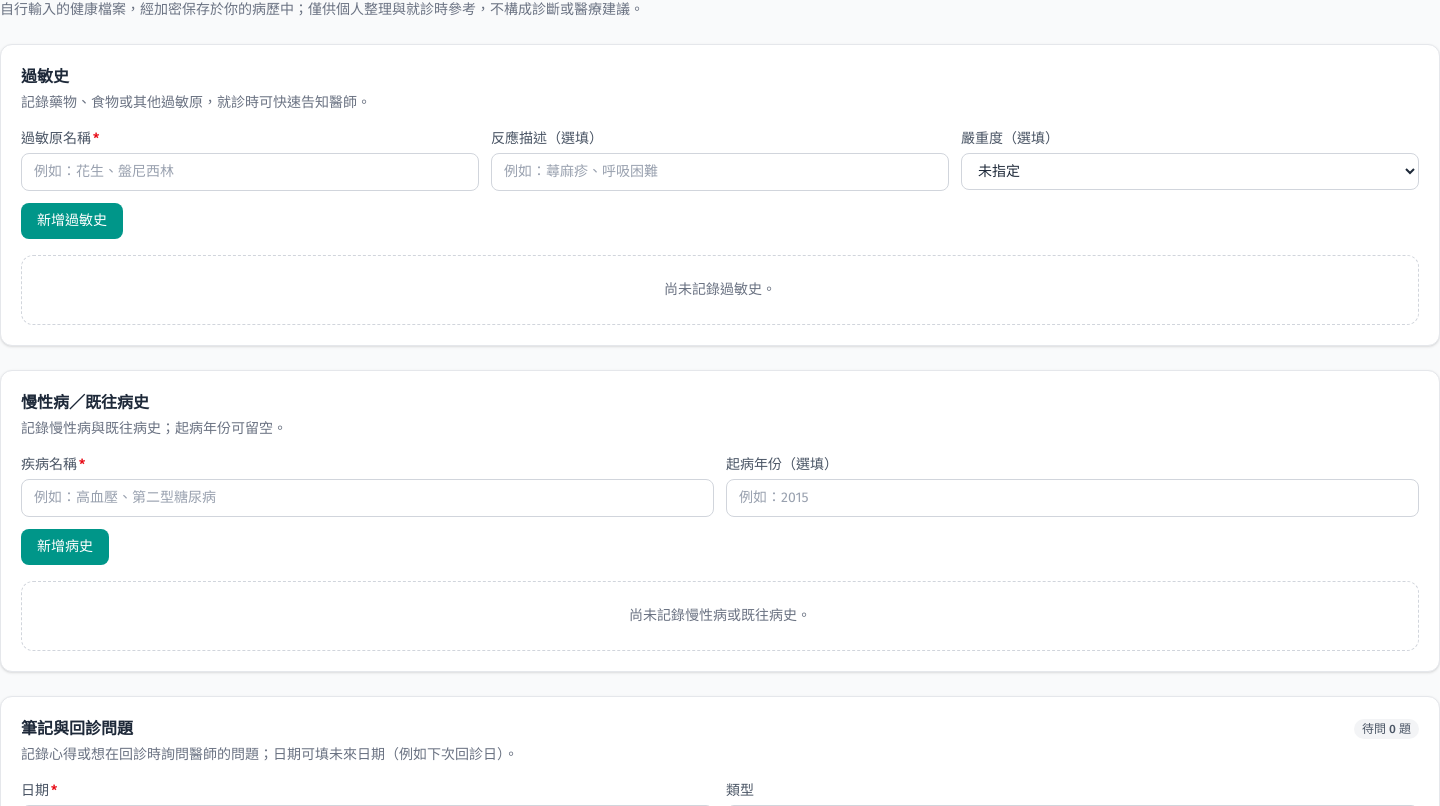
Test: HealthProfile › allergies › adds an allergy and resets the form
Type "  花生  " into the field labelled "過敏原名稱*". click: coordinates (250, 172)
box: [21, 153, 479, 191]
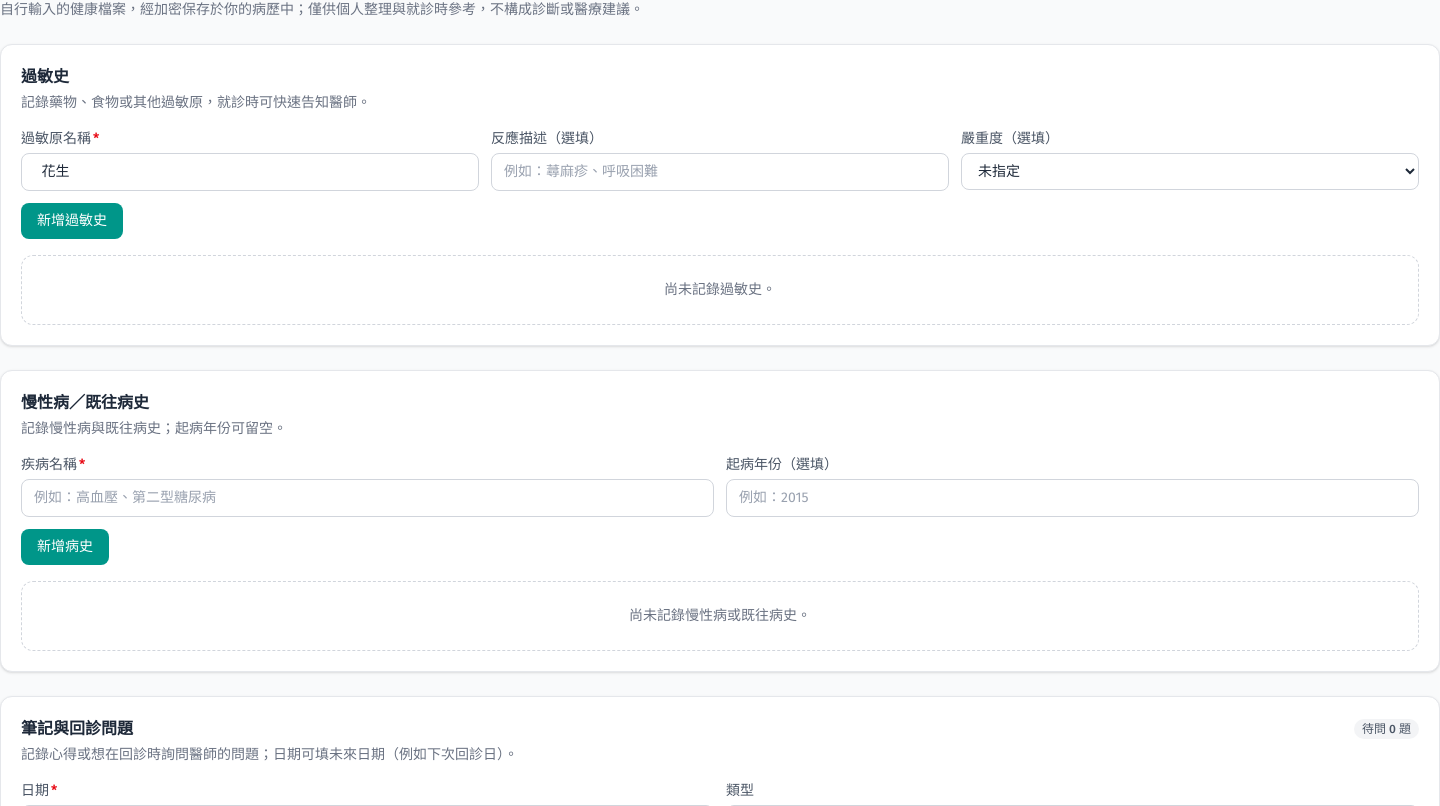
Type "蕁麻疹" into the field labelled "反應描述（選填）". click: coordinates (720, 172)
box: [491, 153, 949, 191]
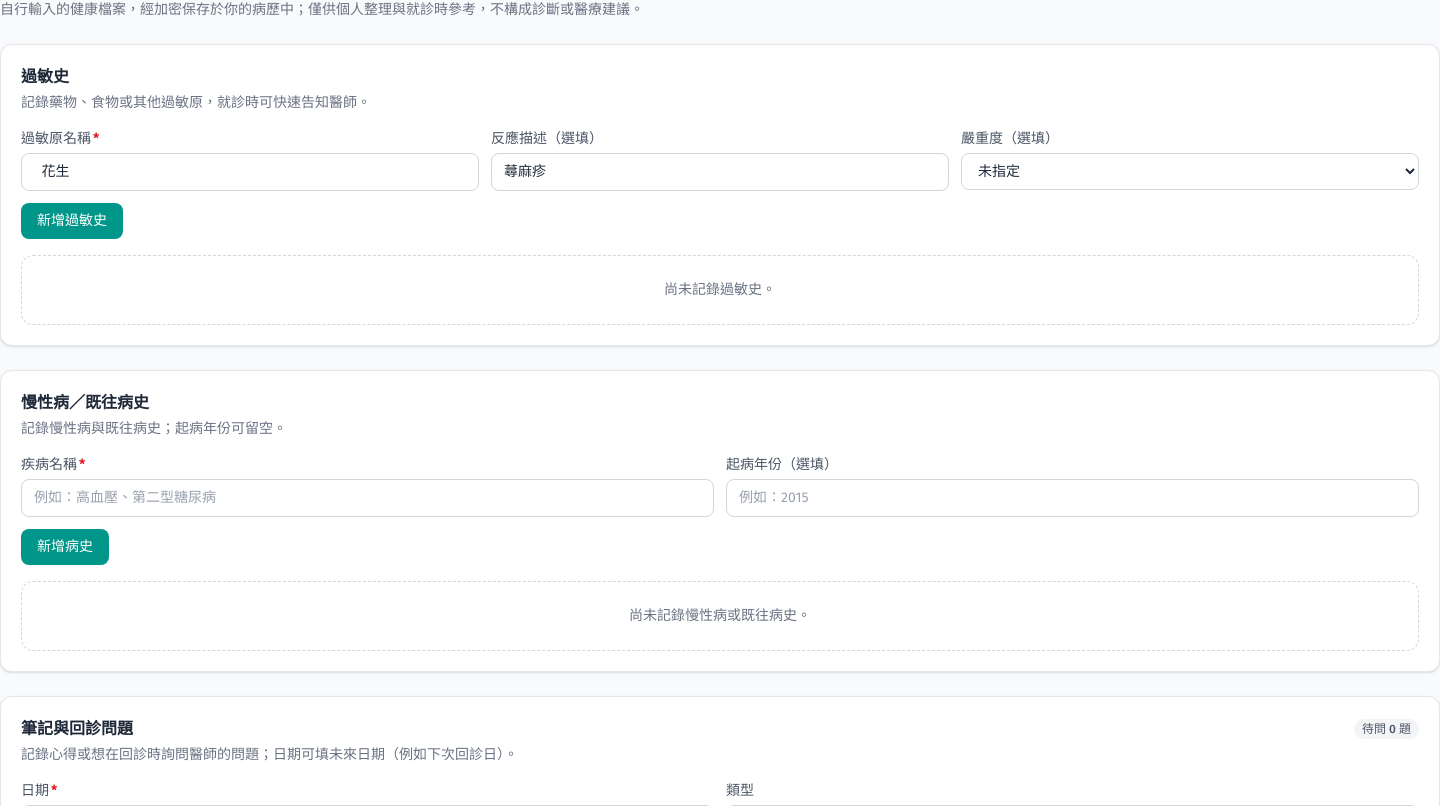
Select "嚴重" in the dropdown labelled "嚴重度（選填）". click: coordinates (1190, 172)
box: [961, 153, 1419, 190]
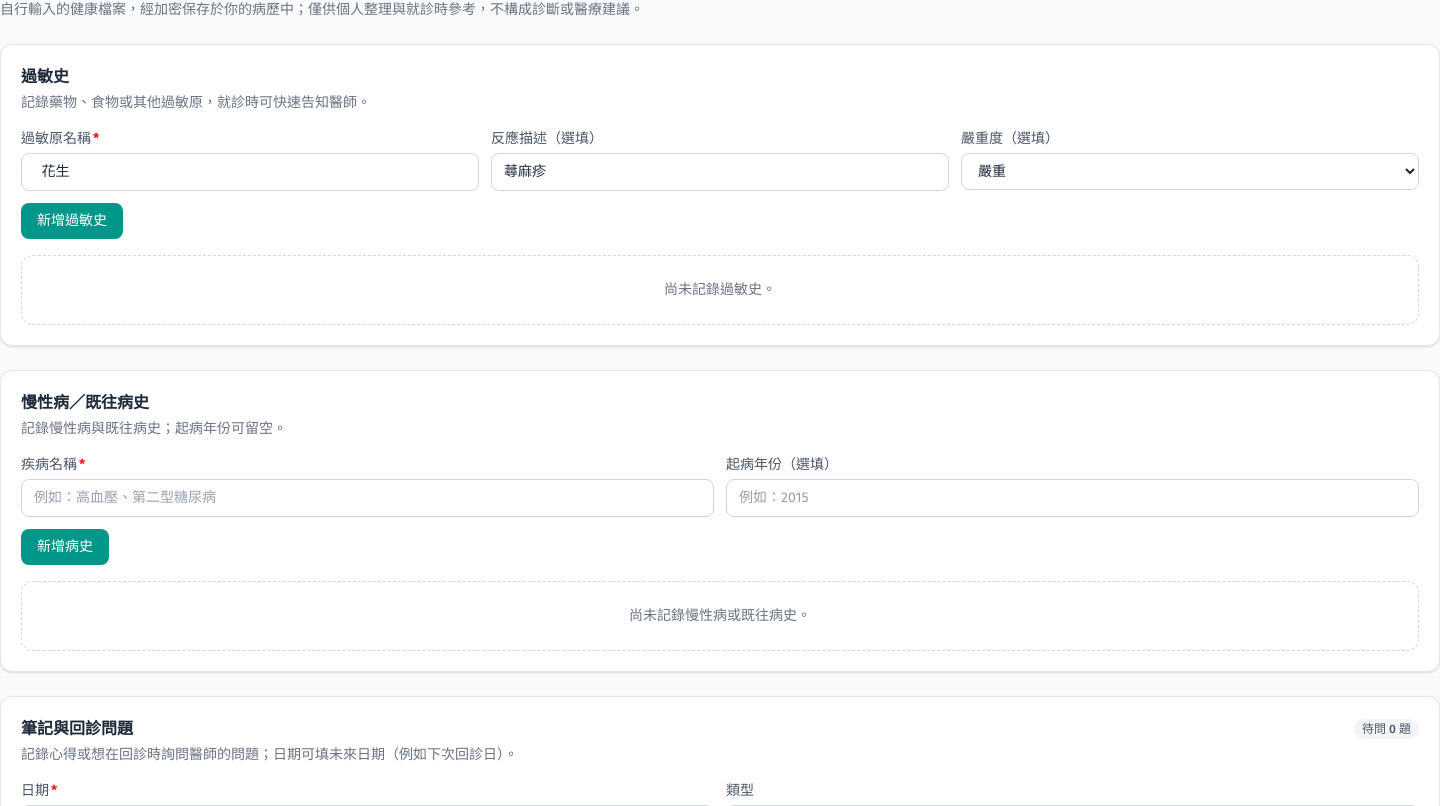
Click the button "新增過敏史". click: coordinates (72, 221)
box: [21, 203, 123, 239]
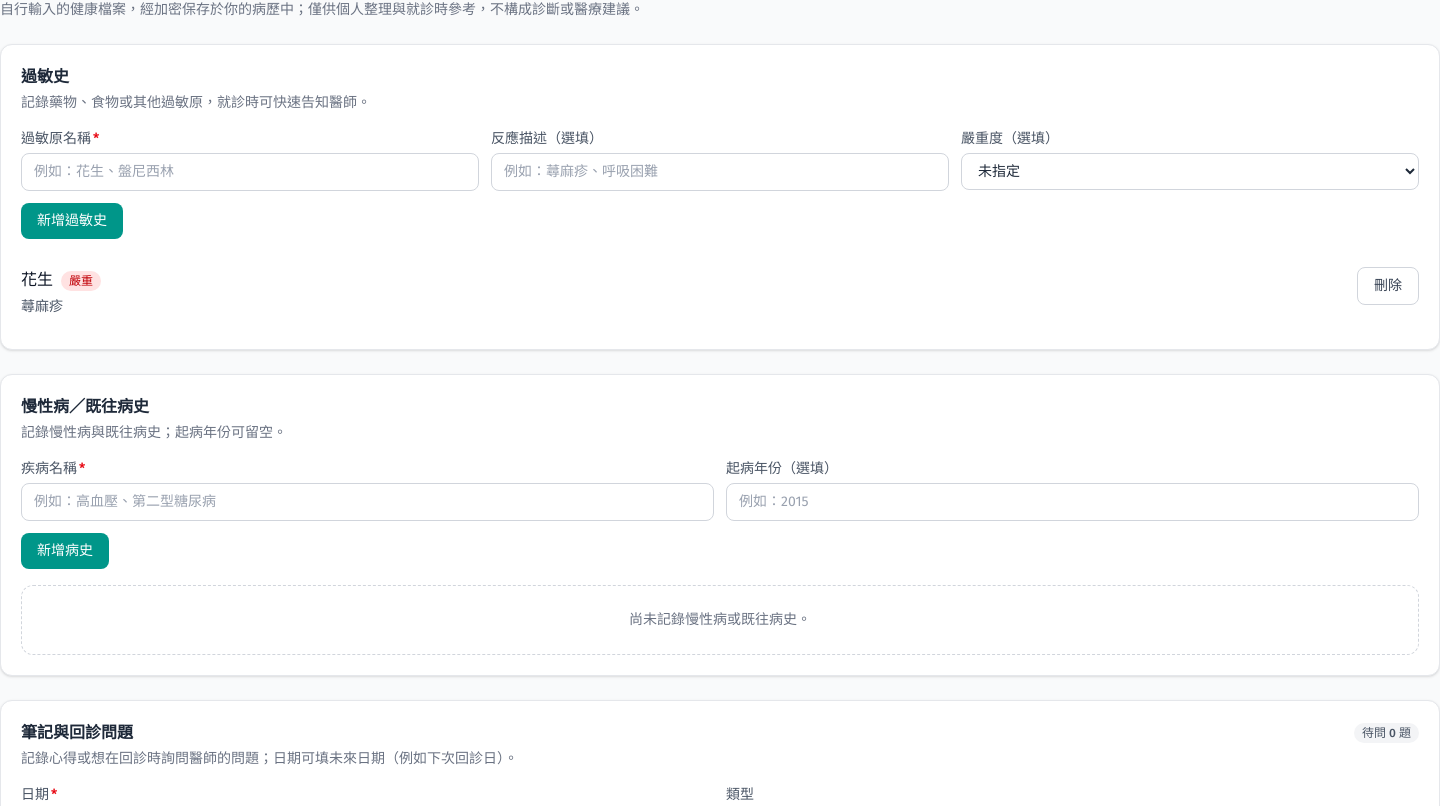
Expected: the list item shows "花生", [21, 270, 53, 289]
Expected: the text "嚴重" is shown, [61, 271, 101, 291]
Expected: the field labelled "過敏原名稱*" is empty, [21, 153, 479, 191]
